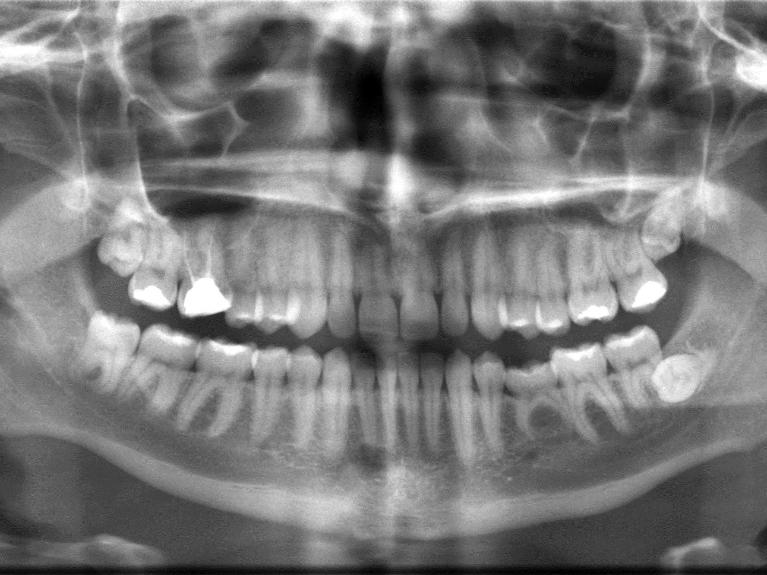canine: (279, 214, 332, 346), (467, 211, 511, 349), (441, 345, 481, 475), (318, 339, 355, 458)
incisor: (391, 224, 443, 354), (354, 230, 402, 356), (321, 213, 360, 351), (436, 220, 474, 347), (346, 345, 384, 468), (415, 345, 448, 467), (394, 343, 424, 462), (372, 342, 402, 461)
molar: (116, 307, 205, 442), (175, 322, 260, 456), (545, 335, 633, 447), (63, 287, 144, 407), (601, 199, 674, 321), (600, 322, 682, 420), (174, 206, 238, 323), (123, 199, 183, 316), (563, 214, 621, 330), (94, 185, 155, 286), (636, 170, 691, 263), (645, 348, 713, 414)
premolar: (497, 348, 583, 452), (252, 204, 305, 339), (246, 329, 293, 467), (282, 335, 328, 470), (495, 225, 547, 344), (219, 217, 265, 332), (531, 224, 573, 343), (471, 346, 510, 468)
